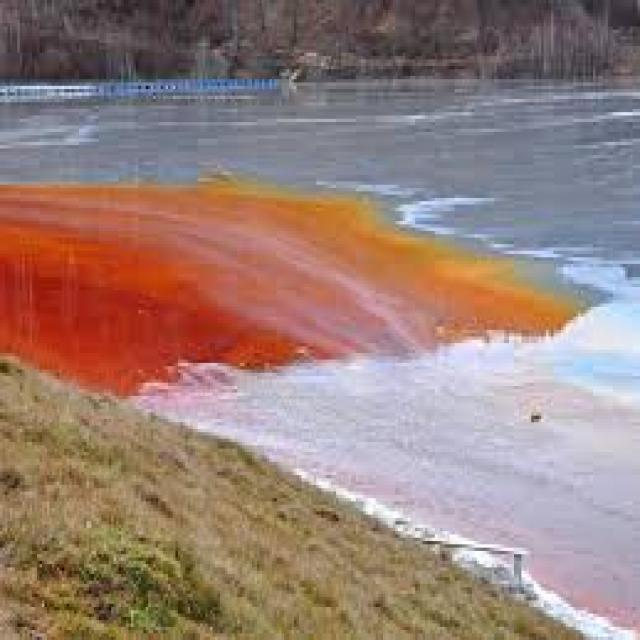yellow_boy: (0, 175, 576, 386)
